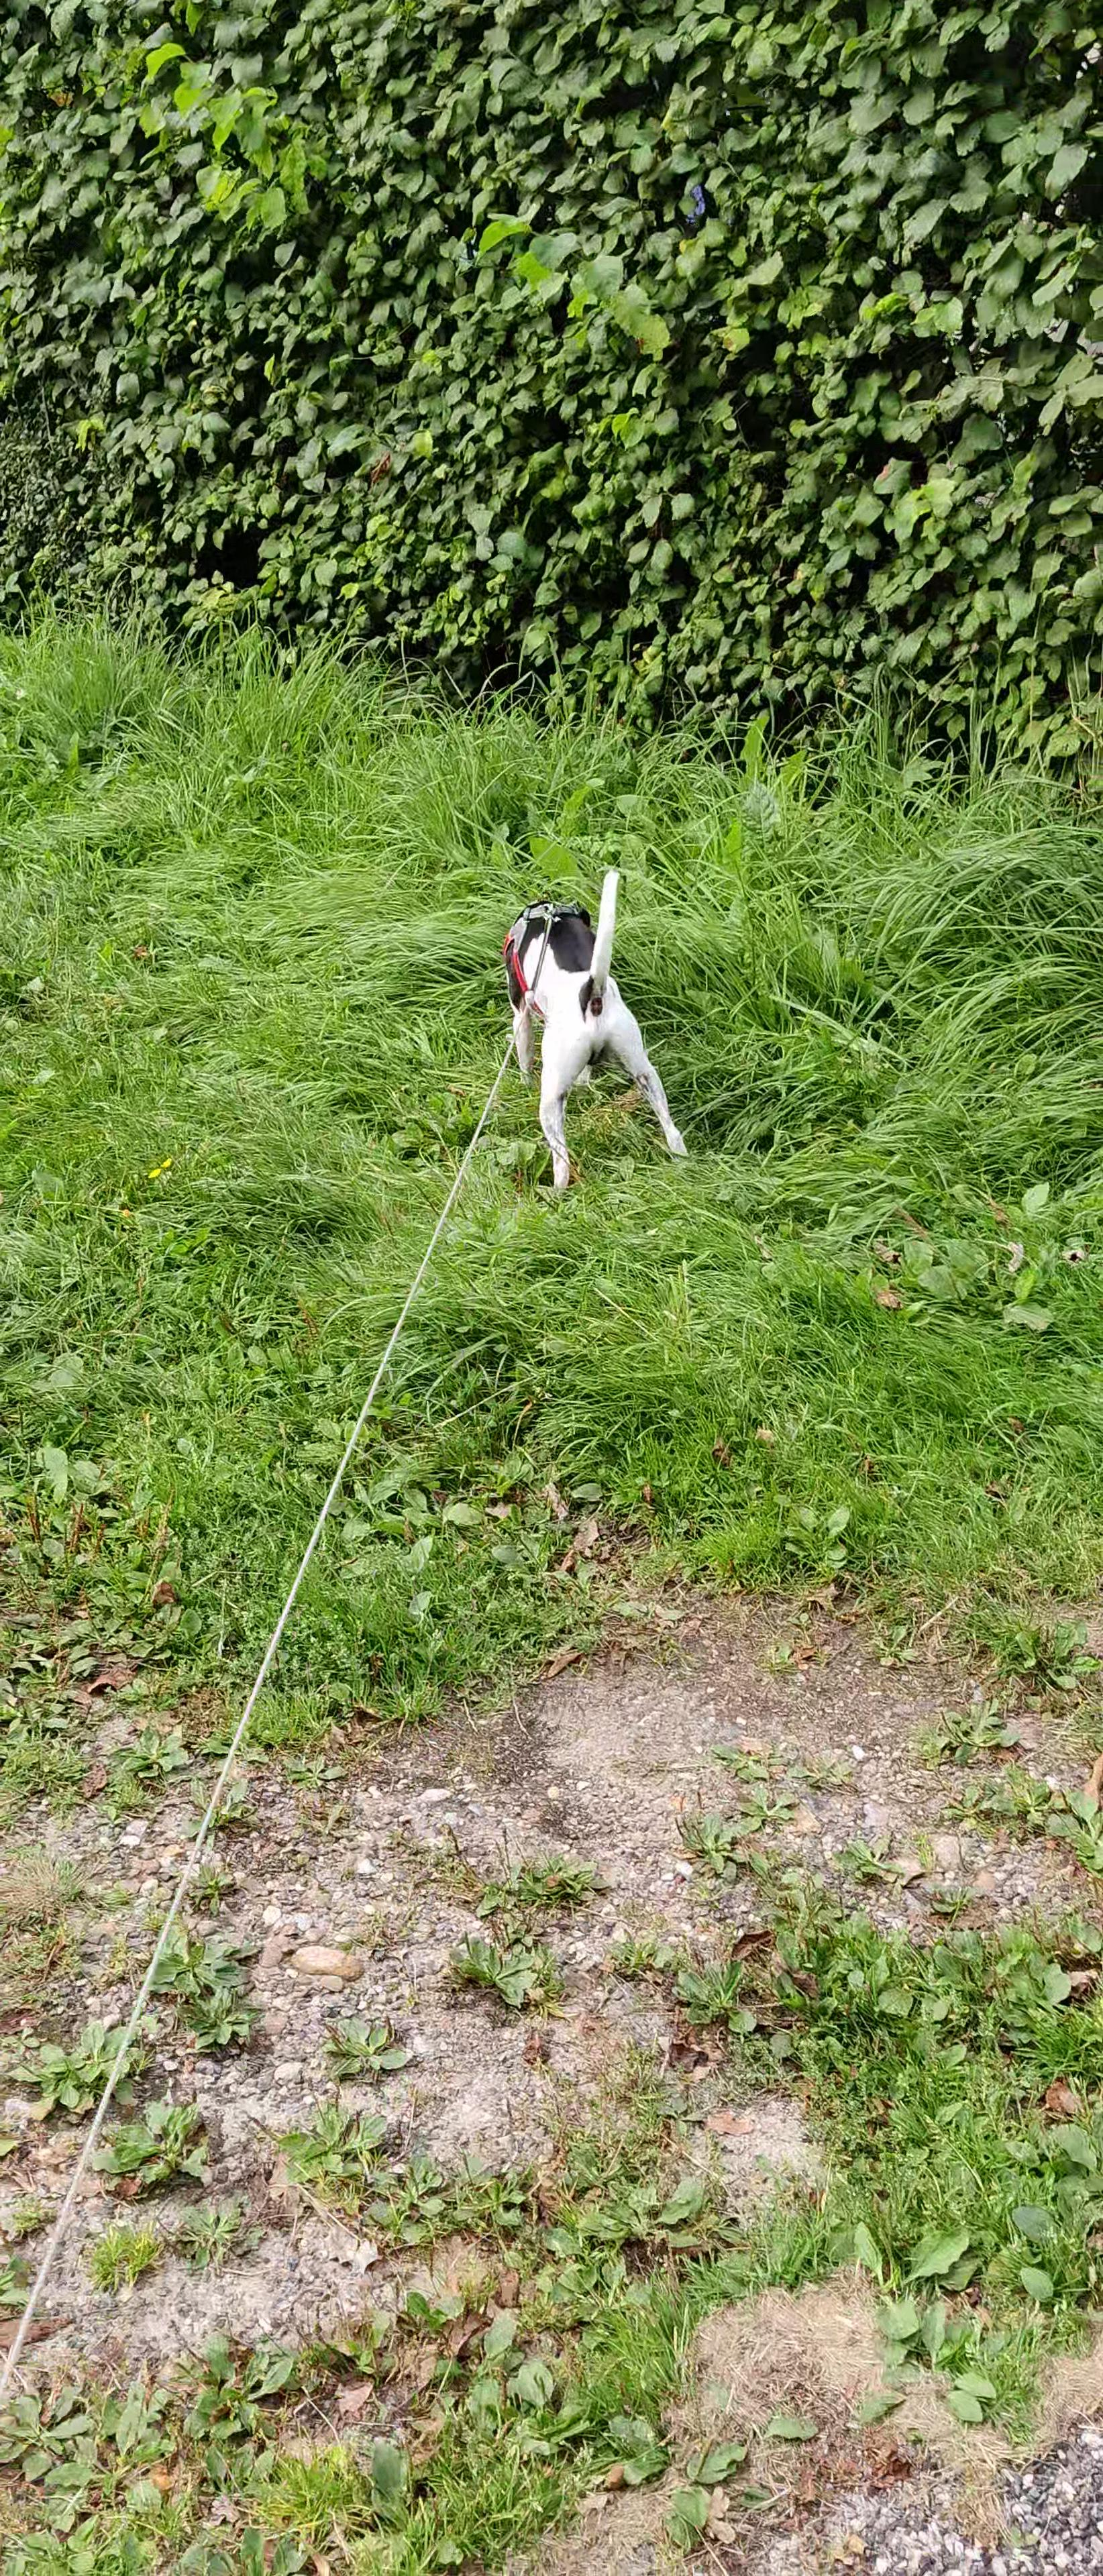Dog: (472, 844, 720, 1217)
